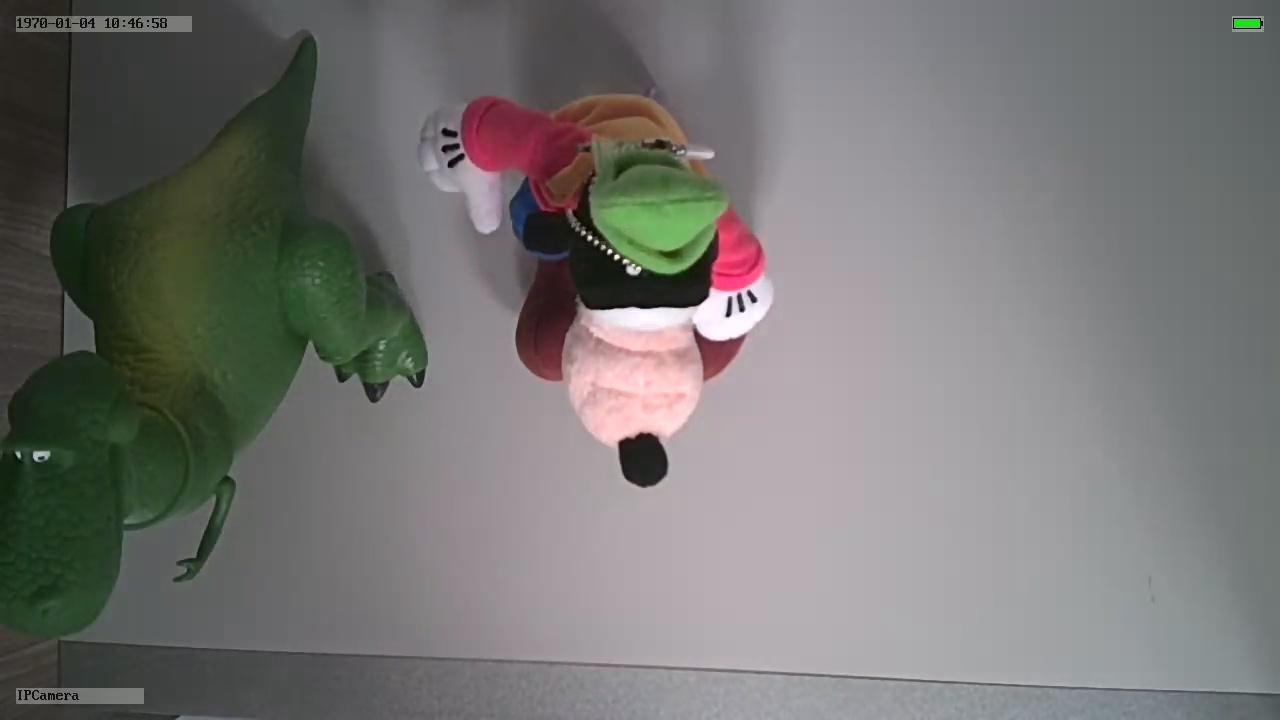goofy: (416, 94, 776, 492)
rex: (1, 129, 428, 642)
